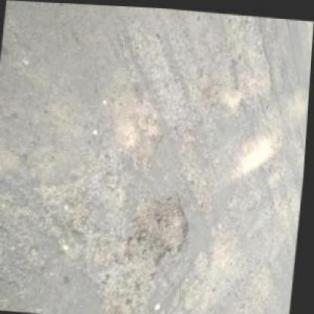Hueco: (133, 189, 195, 264), (35, 175, 98, 236), (137, 113, 167, 143)
